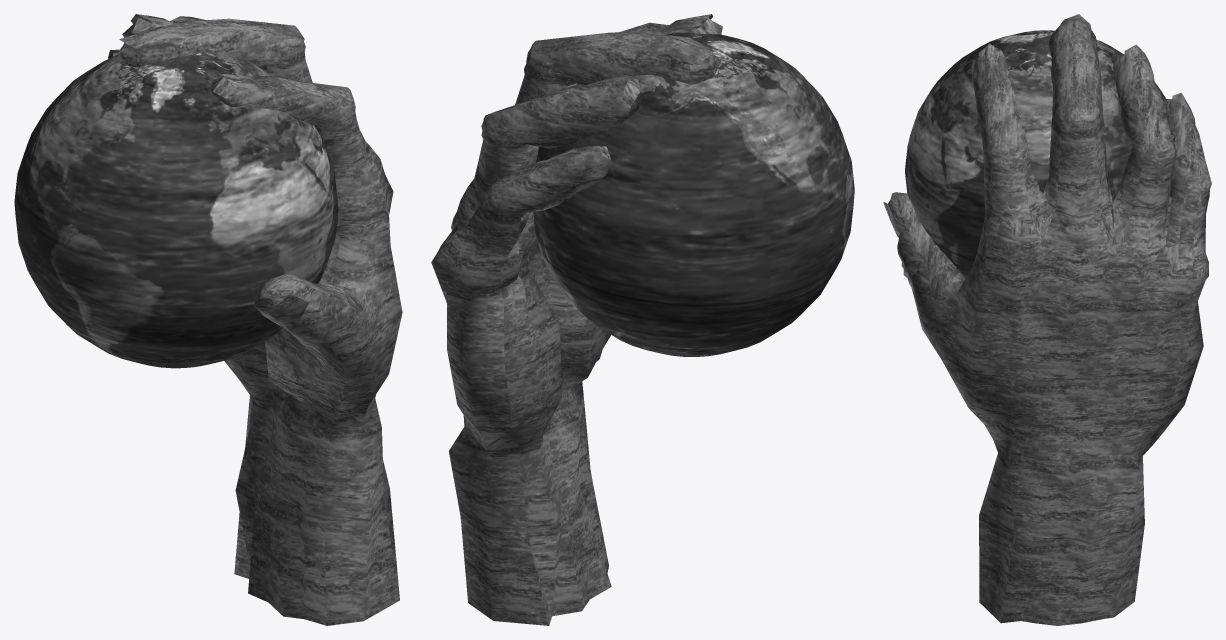
Rendered from globe.FBX.
The picture shows the model from 3 angles, left to right: view 1: azimuth 30°, elevation 25°; view 2: azimuth 150°, elevation 25°; view 3: azimuth 270°, elevation 25°; orthographic projection. The views are drawn at different scales.
Visible parts, largest first — view 1: globe; view 2: globe; view 3: globe.
Boxes of the visible parts, box(x1,y1,x2,y2) form: globe: box(14, 14, 402, 625); globe: box(431, 14, 854, 625); globe: box(883, 14, 1211, 625).
Size of the model in its own units: 10.23 by 9.59 by 16.52.
